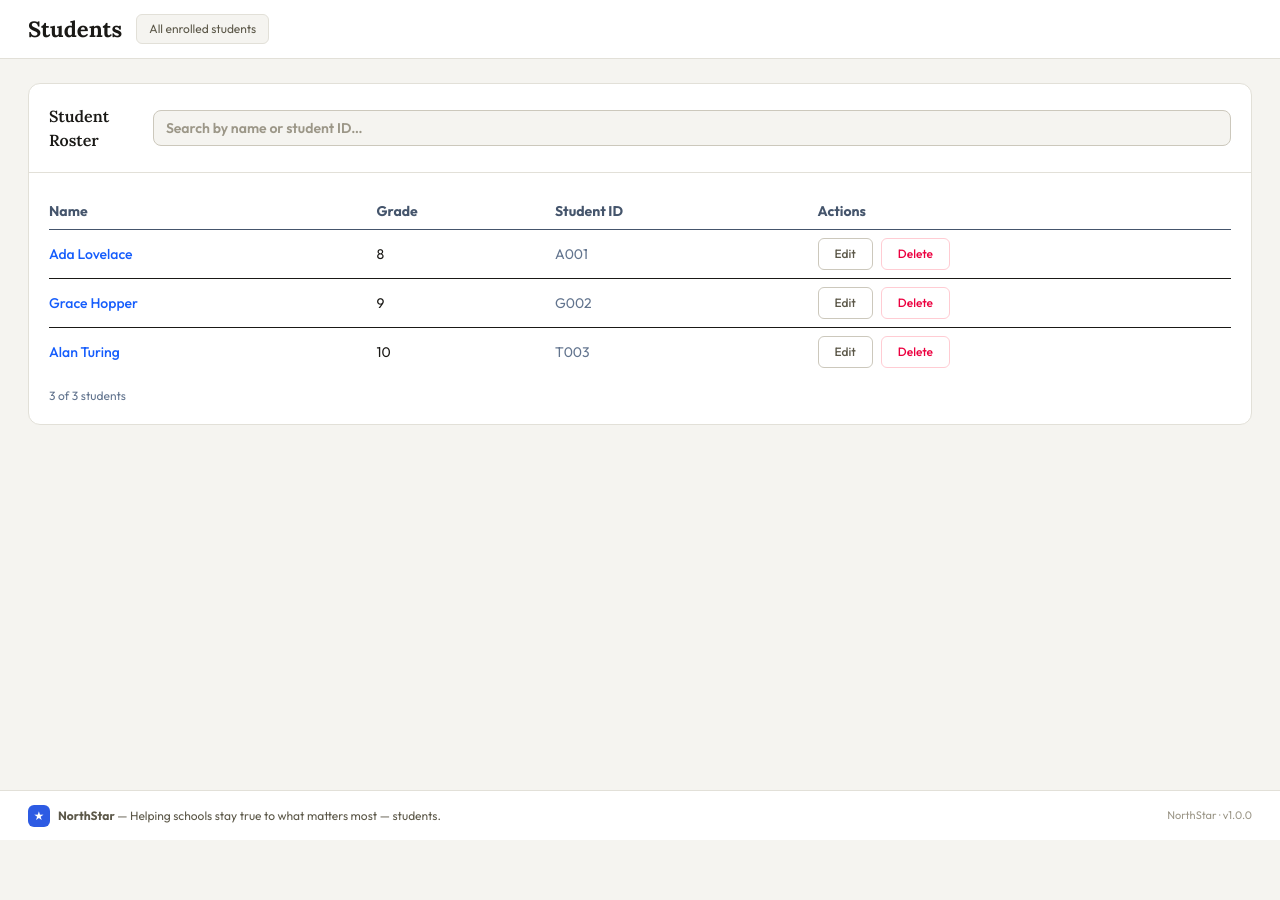
StudentRosterPage › Cancel edit restores normal row view
Expected: the link "Ada Lovelace" is shown, [49, 245, 133, 263]
What coordinates should you click on to do the following:
click the button "Edit" in the row of "Ada"
I would click on:
 (845, 254)
Its box is [818, 238, 873, 270].
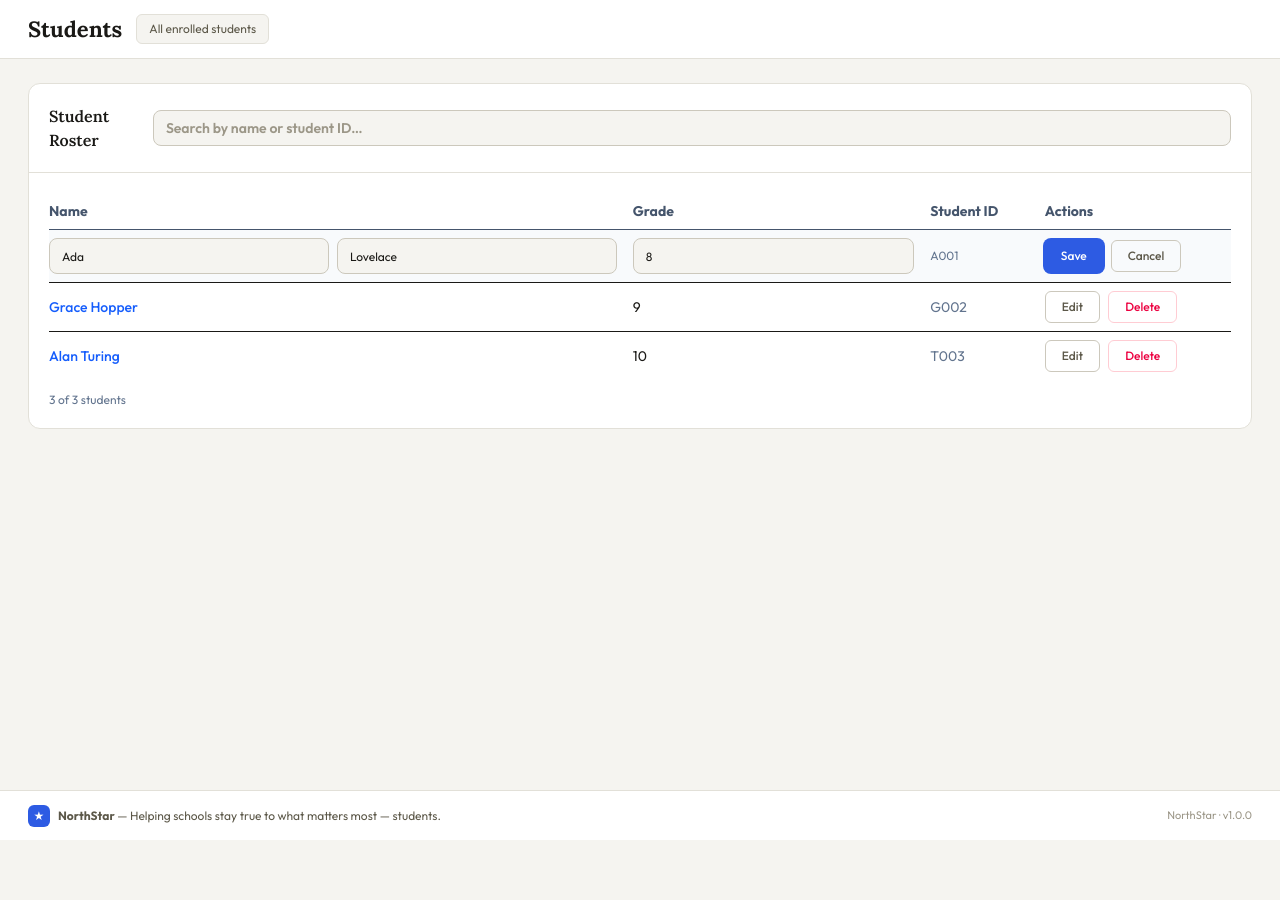
What coordinates should you click on to do the following:
click the button "Cancel"
I would click on:
 (1146, 256)
Its box is [1111, 240, 1181, 272].
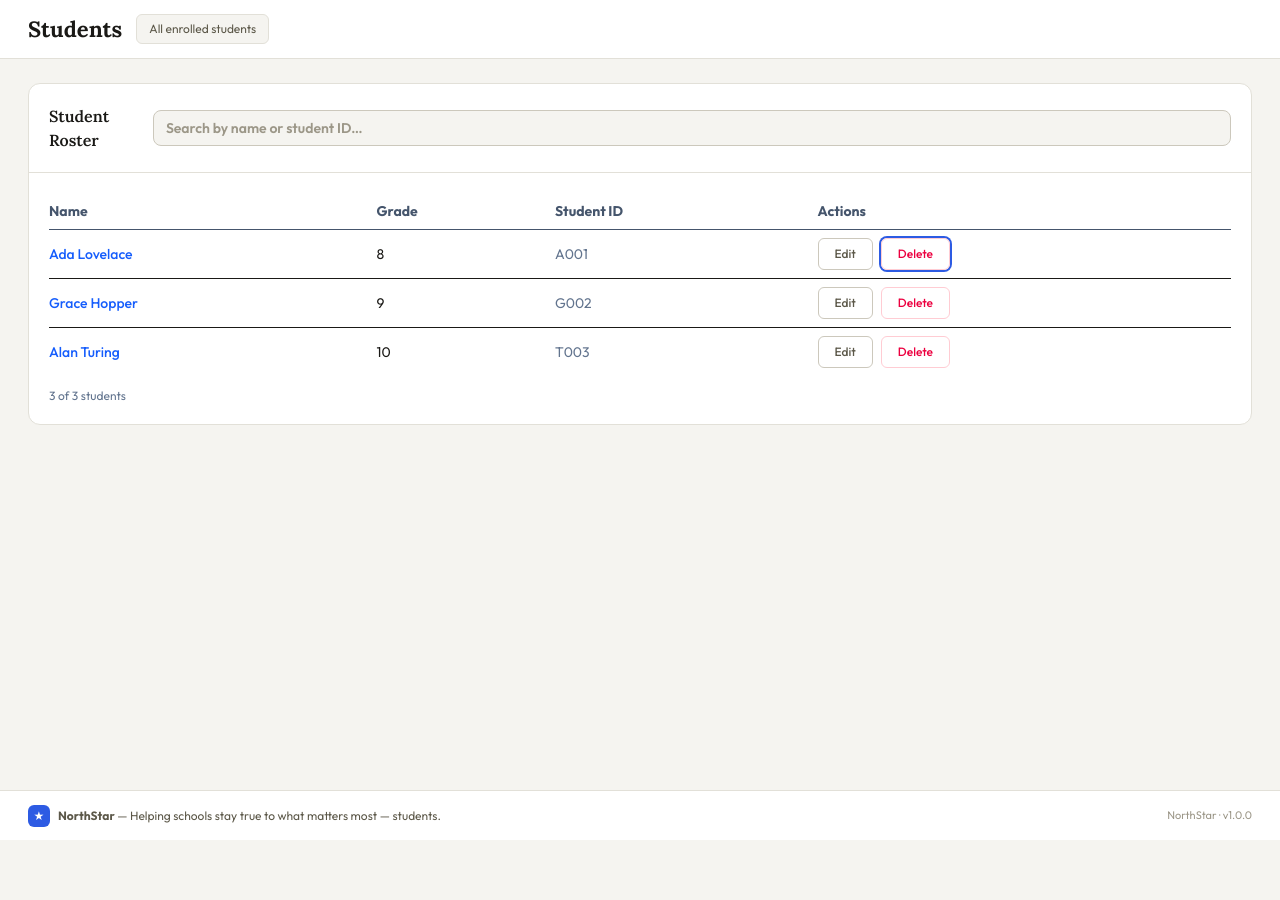
Expected: the number of buttons "Edit" is 3, [818, 238, 873, 270]; [818, 287, 873, 319]; [818, 336, 873, 368]
Now the button "Save" is gone
